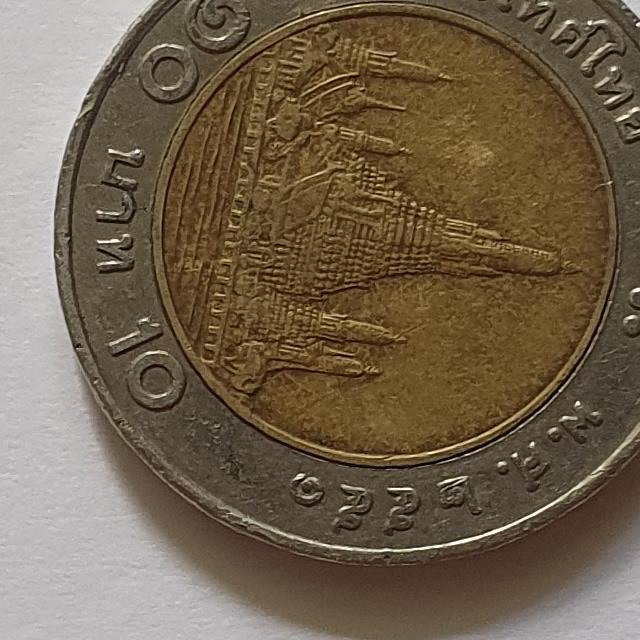10 Bath: (48, 1, 640, 580)
